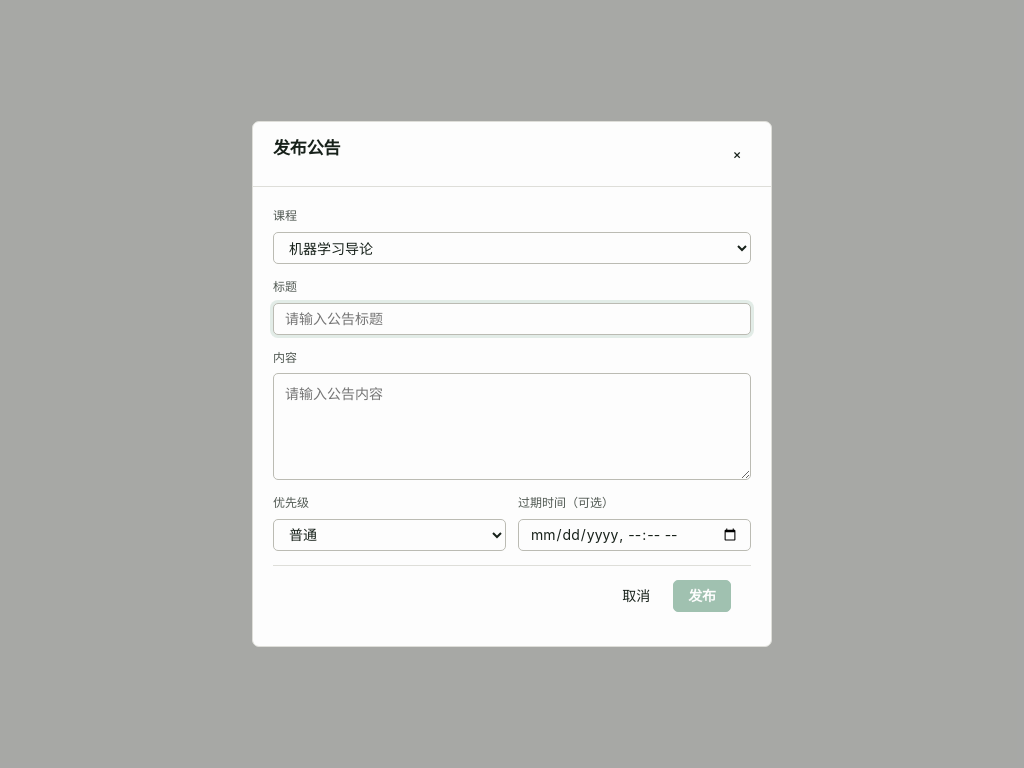
Scenario: AnnouncementComposer › 服务器错误保持对话框打开并展示错误
Type "机房调整" into the field labelled "标题". click: [512, 319]
box: [273,303,751,335]
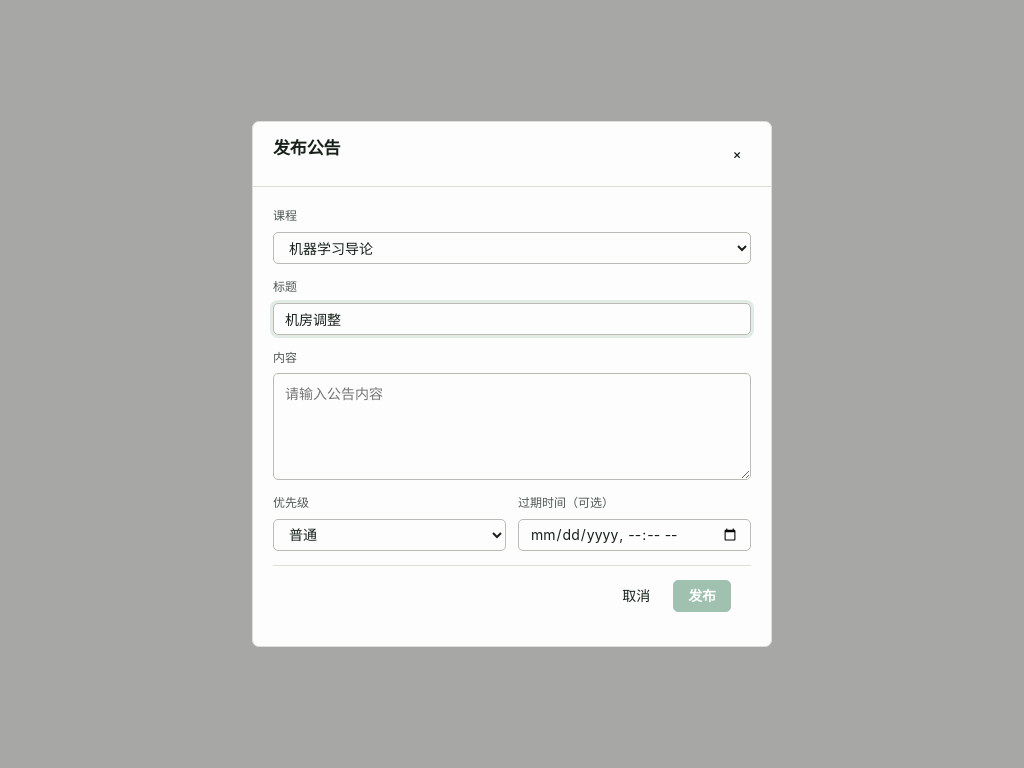
Type "内容" into the text box labelled "内容". click: [512, 427]
box: [273,373,751,480]
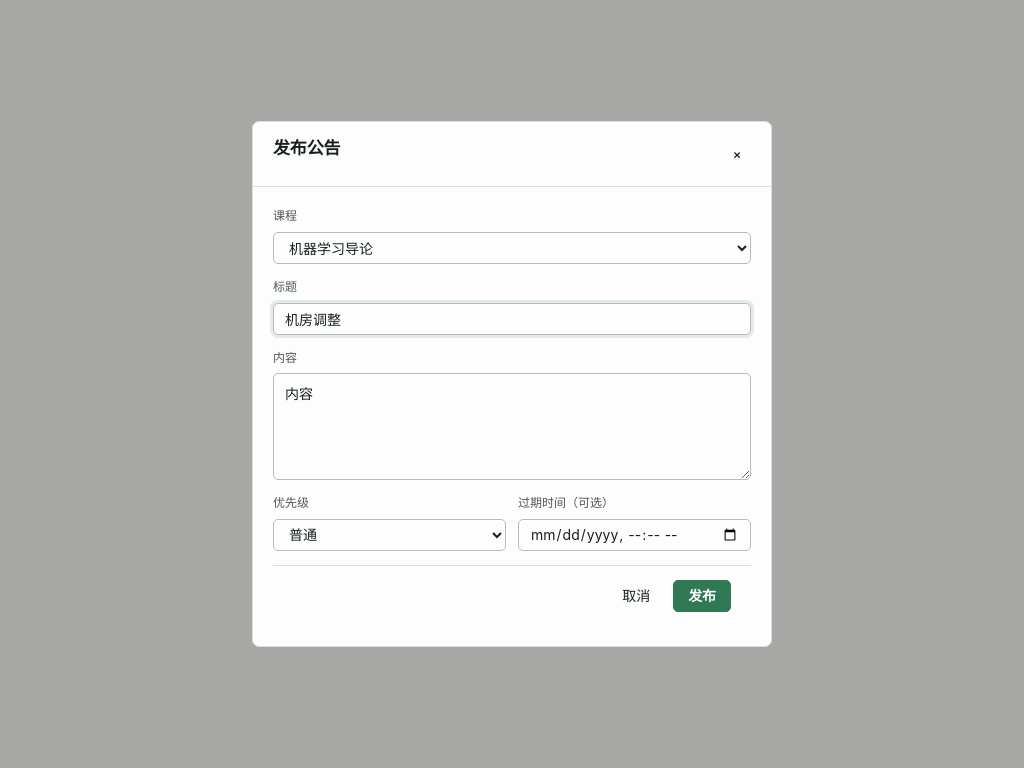
Submit the form with class "composer-form", box [253,187,771,646]
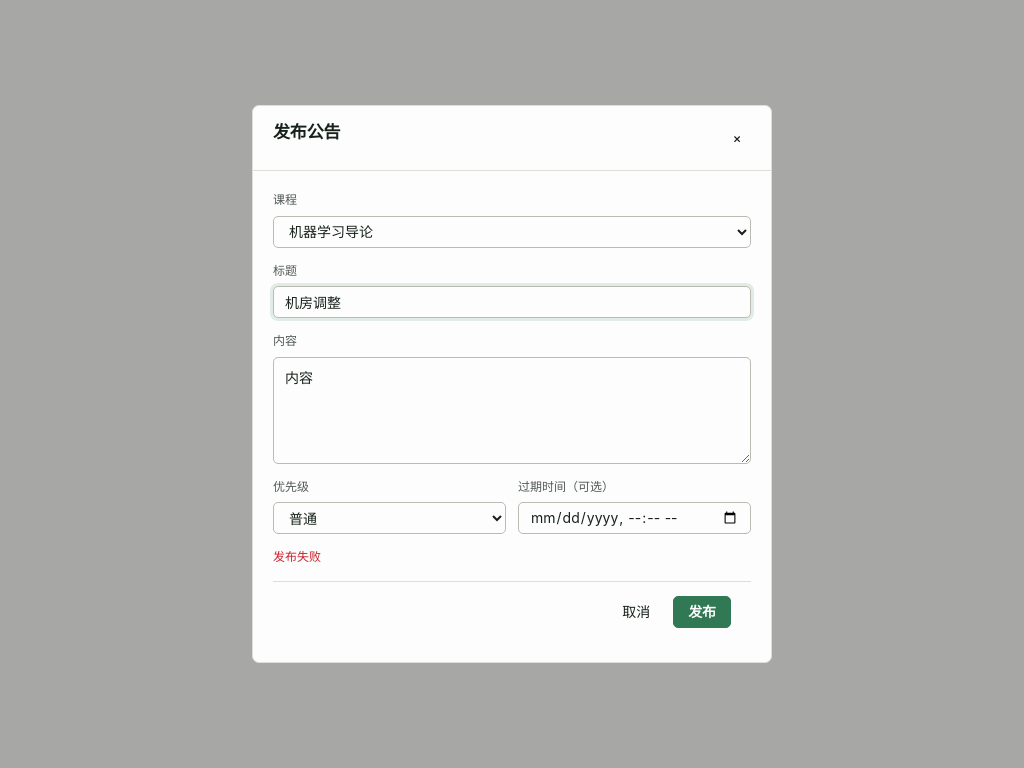
Check: the dialog with class "composer-modal" is shown, box [252,105,772,663]
Check: the message "发布失败" is shown, box [273,549,321,564]
